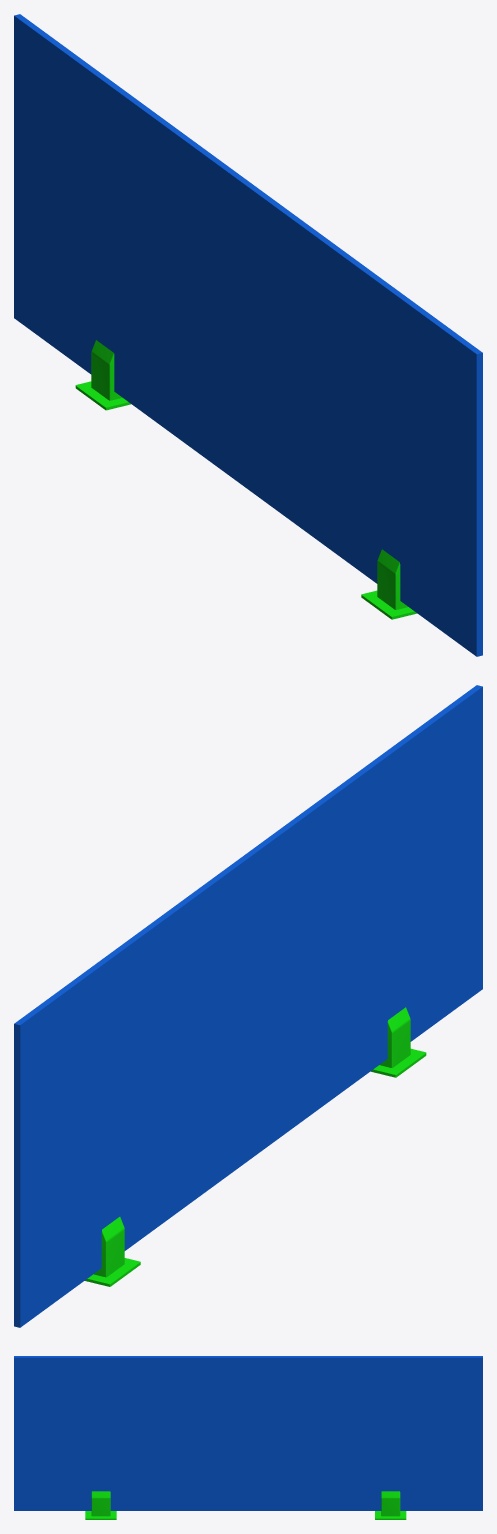
Rendered from Handrail_Glass_high.fbx.
The picture shows the model from 3 angles, top to bottom: view 1: azimuth 30°, elevation 25°; view 2: azimuth 150°, elevation 25°; view 3: azimuth 270°, elevation 25°; orthographic projection. The views are drawn at different scales.
Parts seen in each view (by area): view 1: Handrail_Glass_high; view 2: Handrail_Glass_high; view 3: Handrail_Glass_high.
Boxes of the visible parts, x1=… form: Handrail_Glass_high: x1=14, y1=14, x2=482, y2=656; Handrail_Glass_high: x1=14, y1=685, x2=482, y2=1327; Handrail_Glass_high: x1=14, y1=1356, x2=482, y2=1519.
Size of the model in its own units: 13.34 by 114 by 305.
